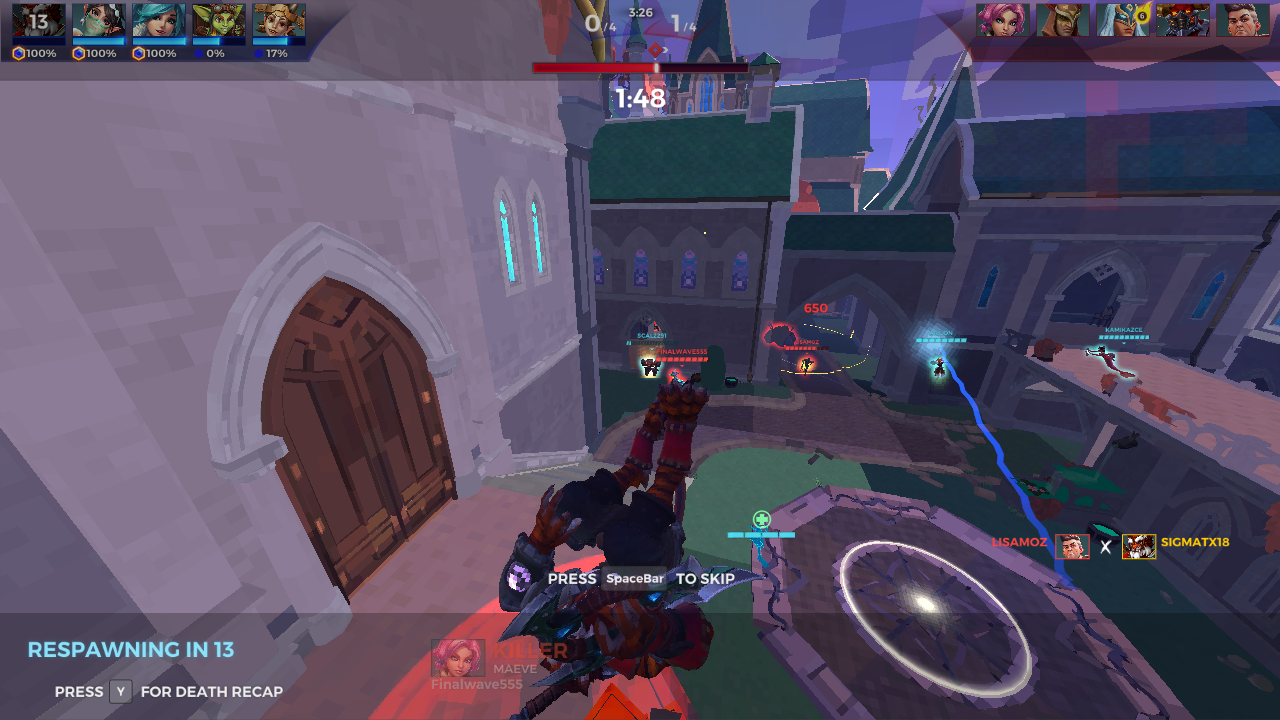model: (799, 355, 817, 378), (665, 370, 682, 388)
